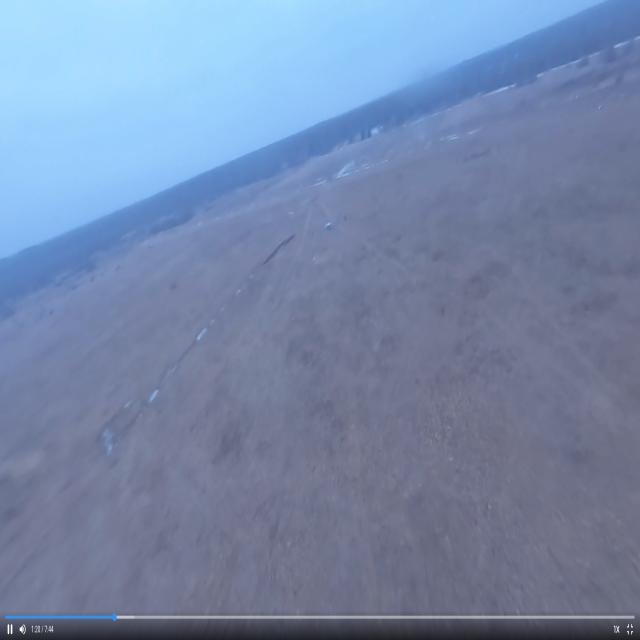planedrone: (314, 218, 346, 232)
